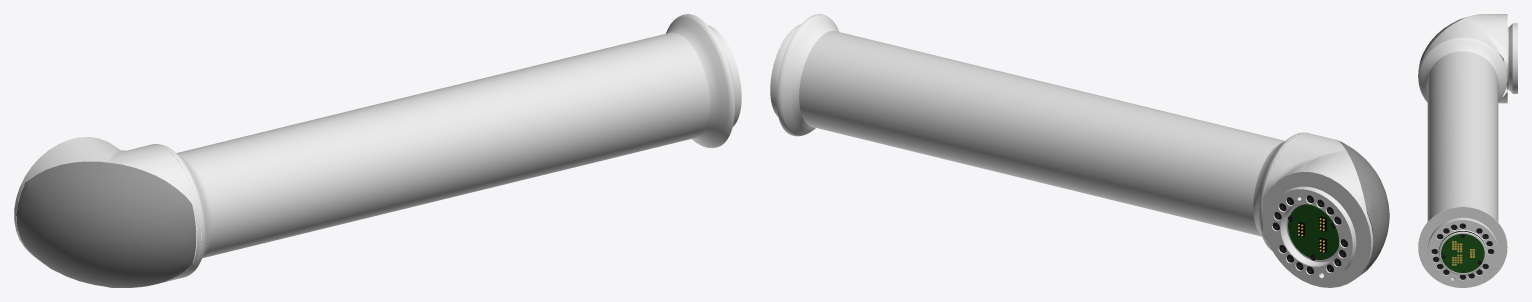
The picture shows the model from 3 angles, left to right: view 1: azimuth 30°, elevation 25°; view 2: azimuth 150°, elevation 25°; view 3: azimuth 270°, elevation 25°; orthographic projection. The views are drawn at different scales.
Visible parts, largest first — view 1: L86.001; view 2: L86.001; view 3: L86.001.
Boxes of the visible parts, x1,y1,x2,y2 form: L86.001: (14,14,741,287); L86.001: (770,14,1389,287); L86.001: (1418,14,1517,287).
Bounding box in the file's own units: 0.4879 × 0.0861 × 0.0961.
